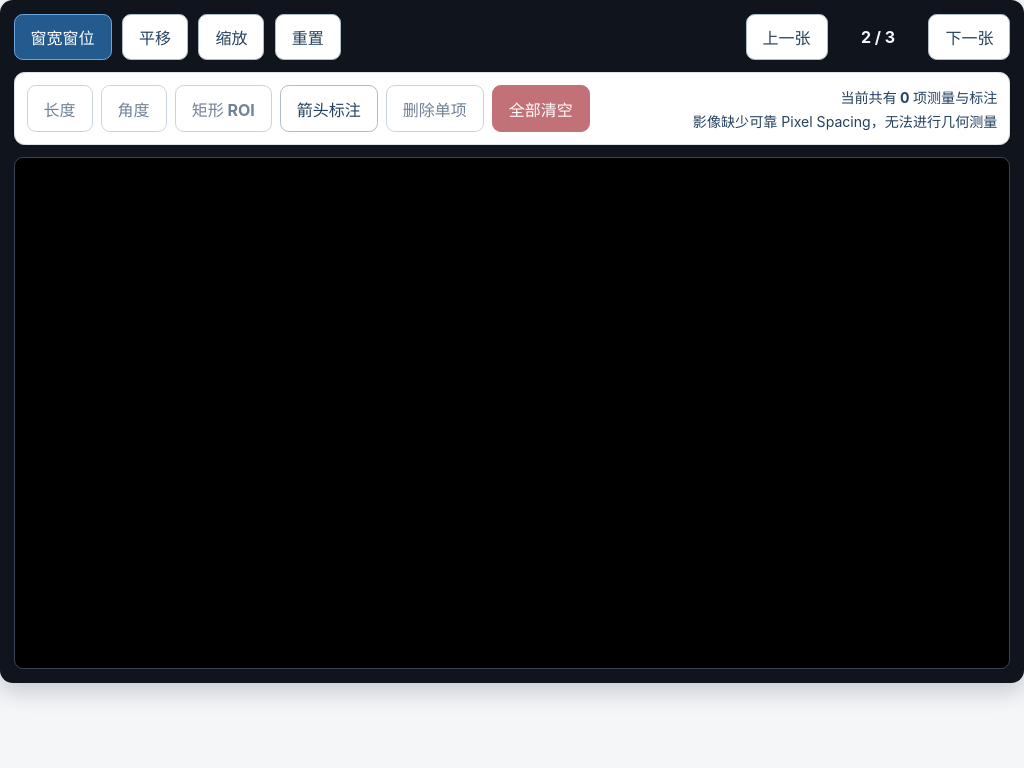
retries a failed reset DELETE and confirms the cleared default state
This screenshot has width=1024, height=768.
Click the button "重置".
click(308, 37)  # box [275,14,341,60]
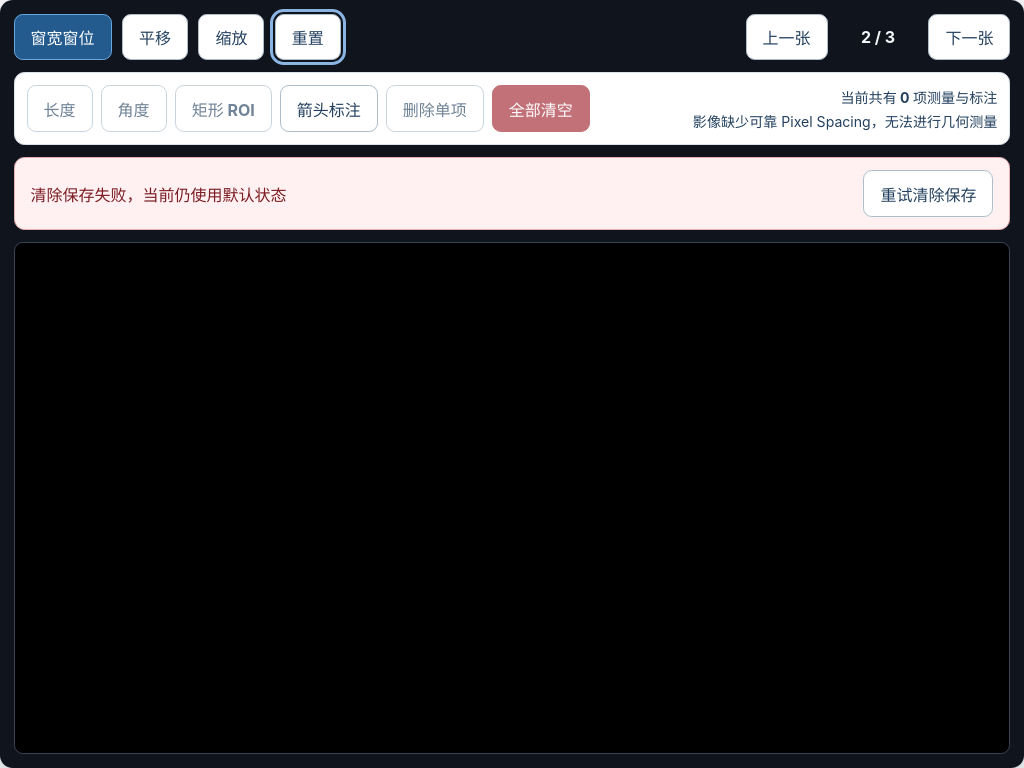
Now the text "清除保存失败，当前仍使用默认状态" is shown, box [31,182,287,206]
Click the button "重试清除保存".
click(928, 194)  # box [863,170,993,217]
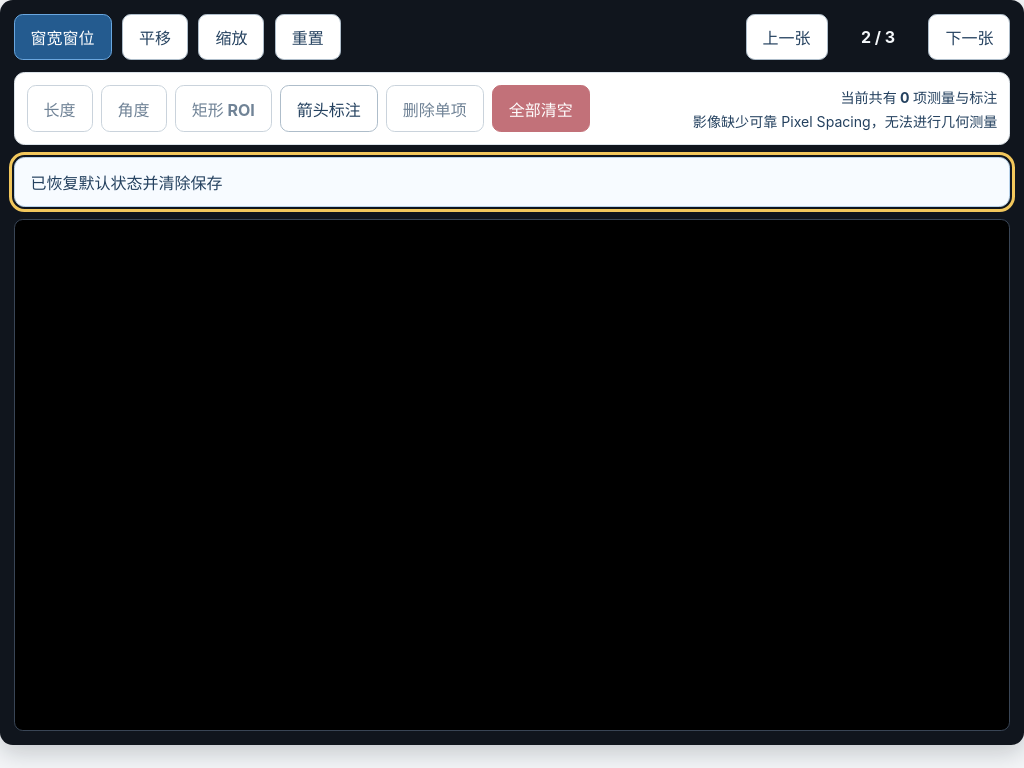
Now the text "已恢复默认状态并清除保存" is shown, box [31,170,223,194]
